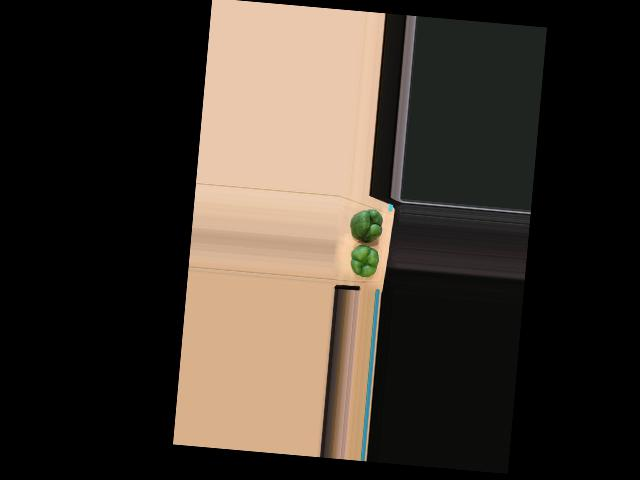bell_pepper: (345, 242, 380, 277)
